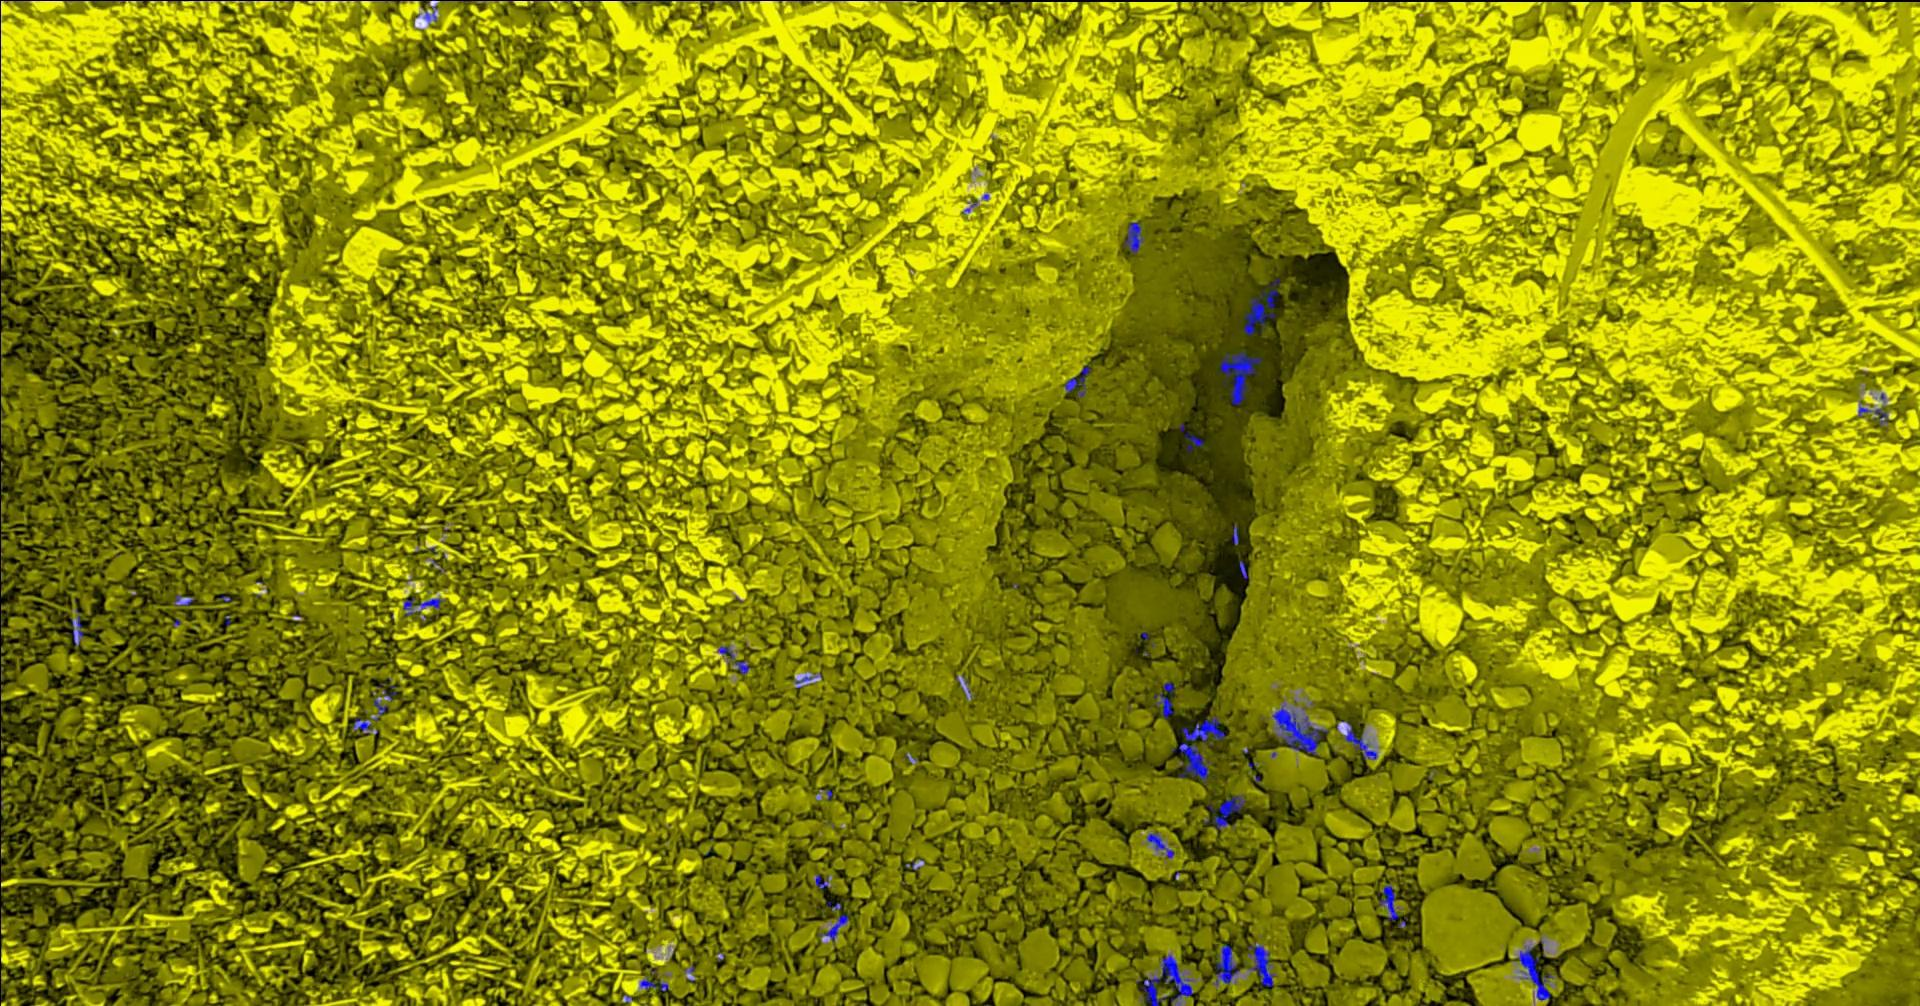ant: (1222, 351, 1263, 404), (1244, 277, 1281, 335), (1516, 945, 1554, 998), (1205, 794, 1247, 829), (1341, 720, 1378, 760), (354, 695, 389, 734), (1379, 883, 1407, 927), (1250, 942, 1277, 986), (1217, 944, 1241, 984), (719, 645, 750, 674), (1065, 365, 1092, 398), (819, 915, 850, 941), (1156, 681, 1177, 718), (1147, 831, 1176, 857), (404, 597, 446, 615), (1859, 401, 1890, 426), (1181, 423, 1205, 451), (1125, 221, 1145, 253), (72, 608, 85, 647), (641, 976, 670, 991), (796, 672, 823, 687), (383, 677, 397, 701), (425, 0, 438, 22), (817, 873, 830, 889), (175, 594, 196, 605)
